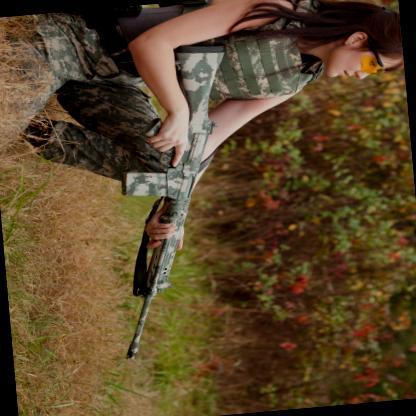rifle: (80, 44, 260, 363), (59, 4, 151, 22)
